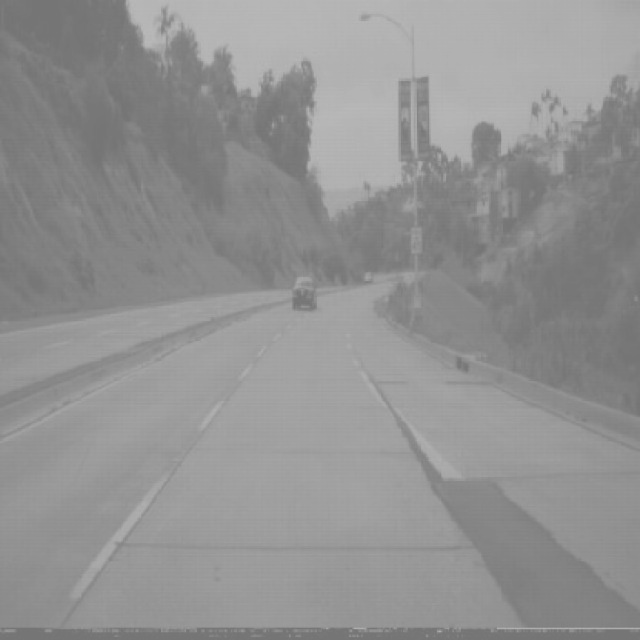speedLimit45: (411, 227, 423, 256)
